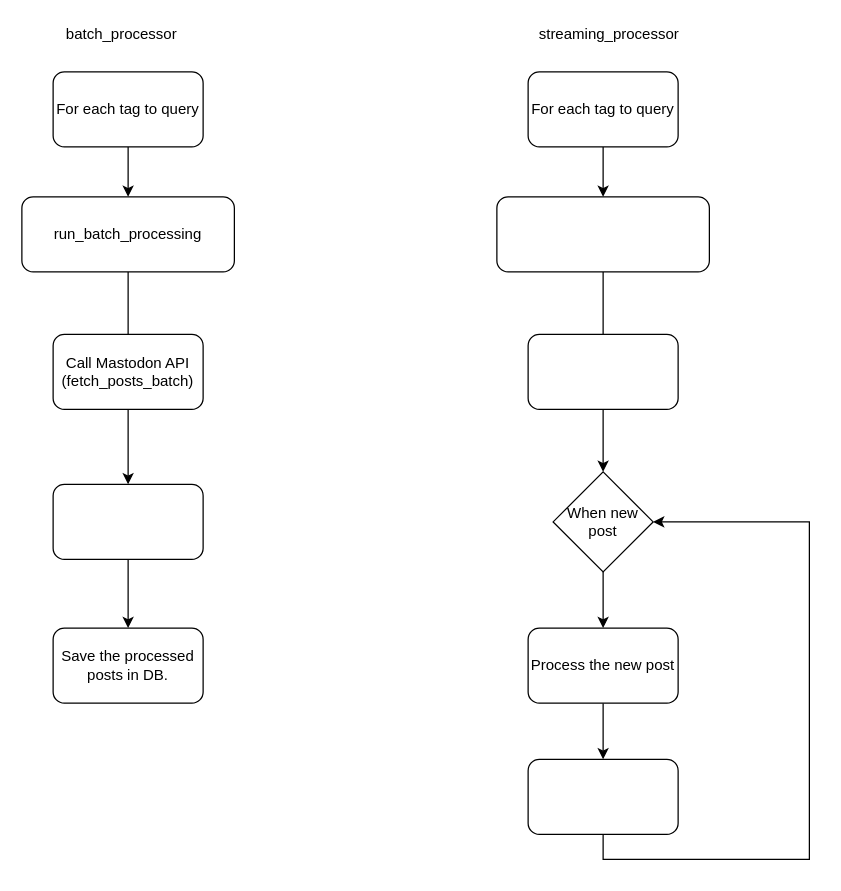
This 841x891 diagram has some shape labels left out. The shapes that lost their labels are listed below. From the top down, each one's centre as x and y in pixels, then its label:
At (602,234): "run_streaming_processing".
At (602,371): "Call stream_hashtag".
At (127,521): "Process posts (filter posts, extract fields)".
At (602,796): "Save the new post".
